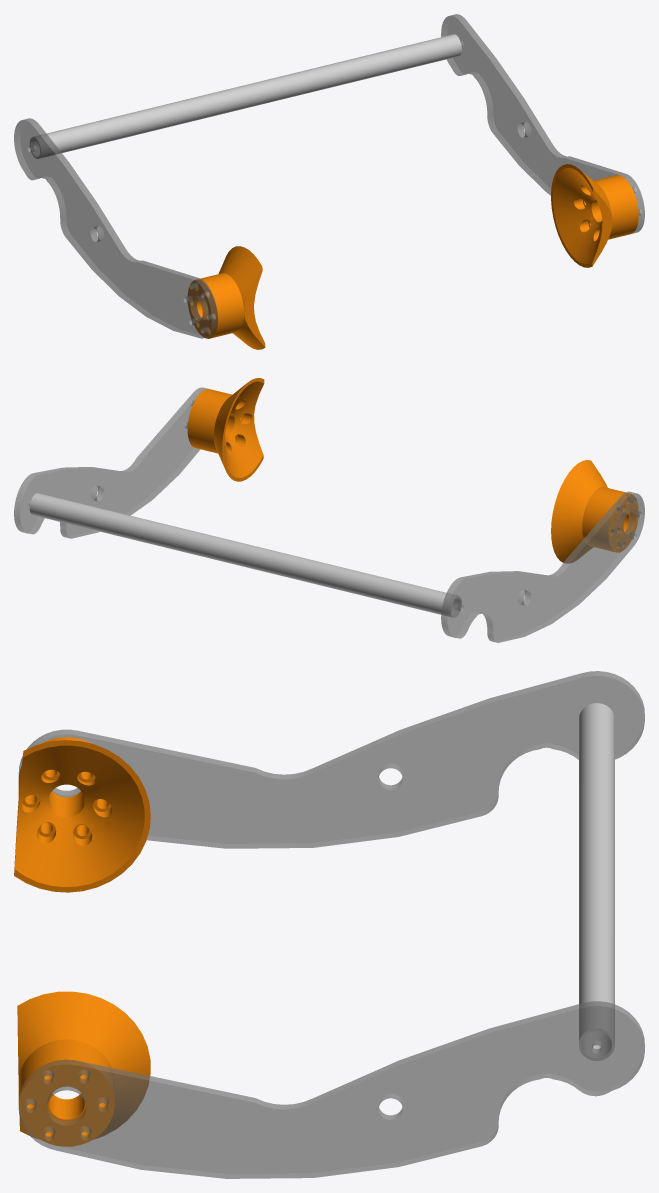
3 renders of one model, top to bottom at view 1: azimuth 30°, elevation 25°; view 2: azimuth 150°, elevation 25°; view 3: azimuth 270°, elevation 25°, orthographic. The views are drawn at different scales.
Parts seen in each view (by area): view 1: Winch Arm (×2), Axle Hub (×2), Dead Axle Tube - 16in (REV-21-2510); view 2: Winch Arm (×2), Axle Hub (×2), Dead Axle Tube - 16in (REV-21-2510); view 3: Winch Arm (×2), Axle Hub (×2), Dead Axle Tube - 16in (REV-21-2510).
Boxes of the visible parts, bbox=[...] form: Winch Arm (×2): bbox=[14, 14, 644, 338]; Axle Hub (×2): bbox=[187, 164, 638, 349]; Dead Axle Tube - 16in (REV-21-2510): bbox=[29, 34, 461, 158]; Winch Arm (×2): bbox=[14, 387, 644, 642]; Axle Hub (×2): bbox=[187, 378, 638, 563]; Dead Axle Tube - 16in (REV-21-2510): bbox=[29, 493, 461, 617]; Winch Arm (×2): bbox=[18, 671, 644, 1178]; Axle Hub (×2): bbox=[14, 737, 150, 1146]; Dead Axle Tube - 16in (REV-21-2510): bbox=[579, 703, 614, 1060].
Bounding box in the file's own units: 0.4184 × 0.1056 × 0.3331.
